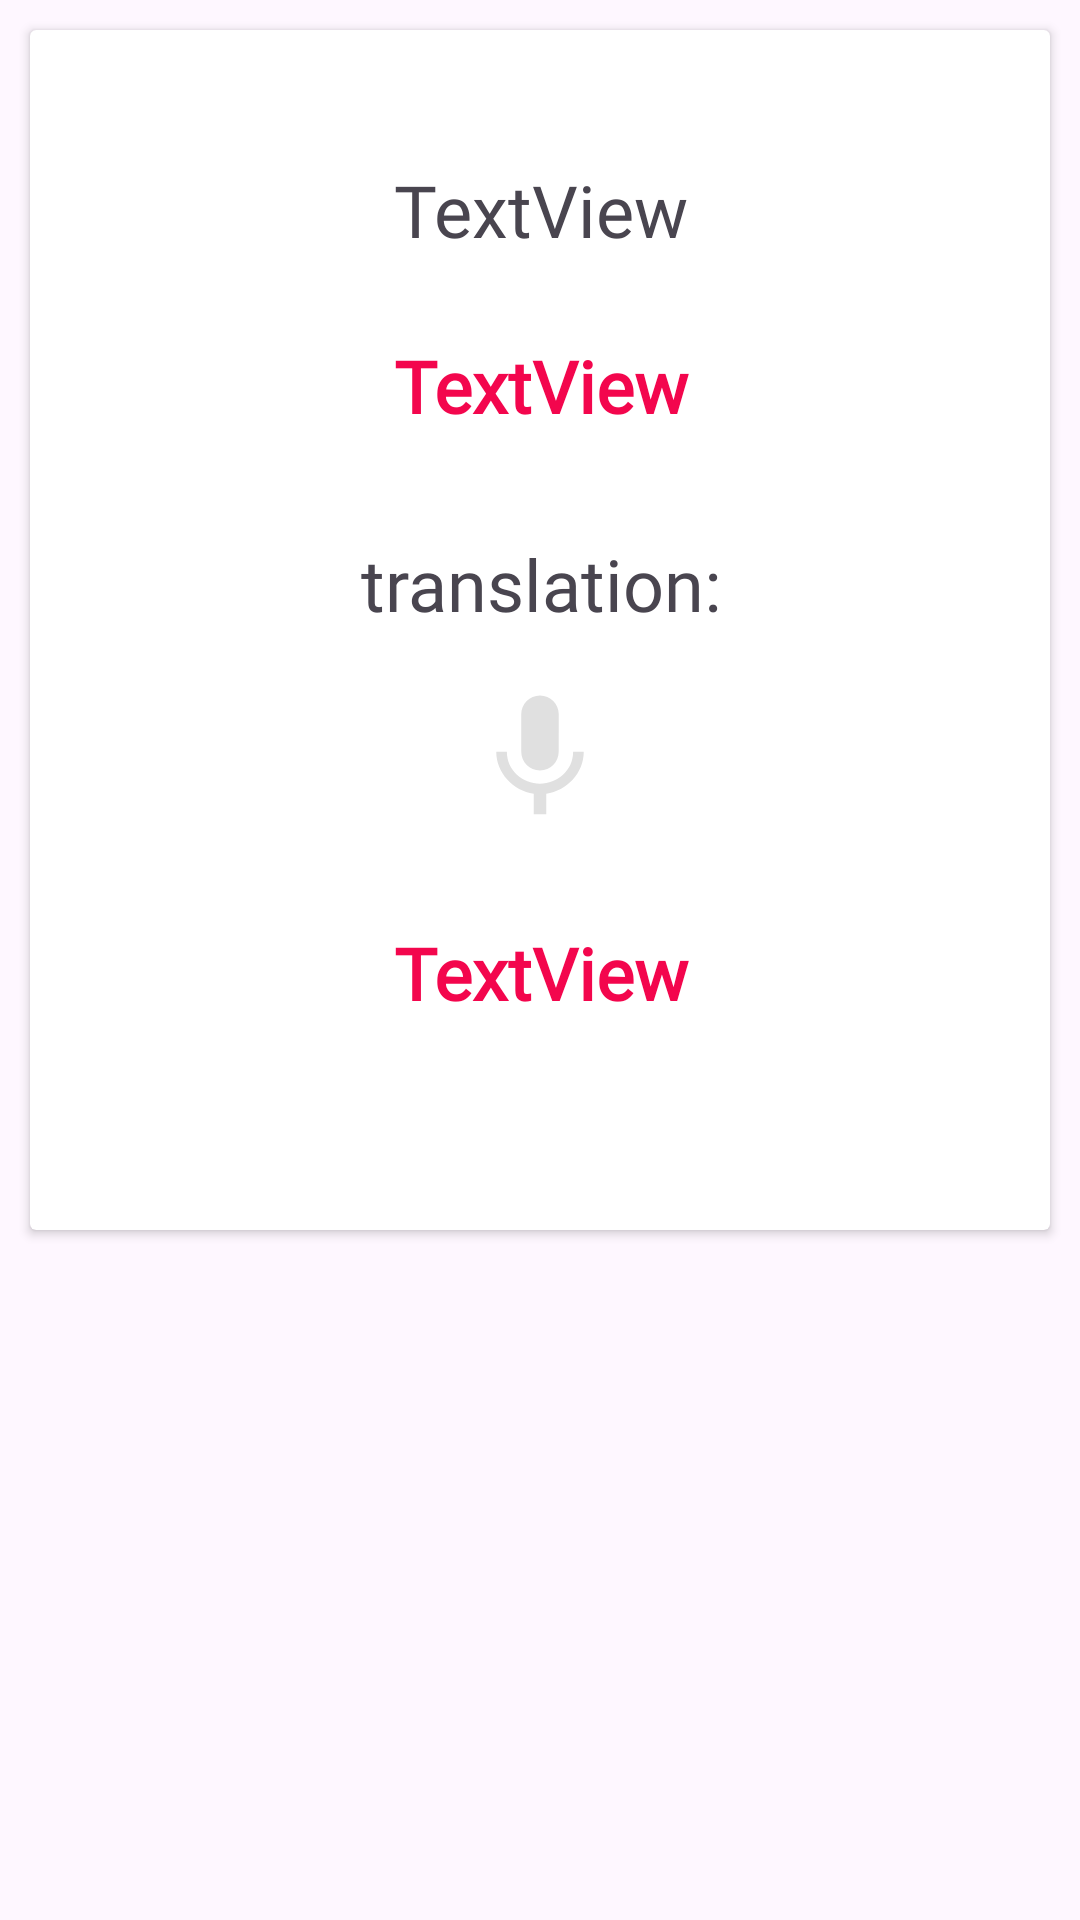

Point at icon controls on the screen. Image size 1080w x 1920h, points as [x,y].
mic: [540,755]
